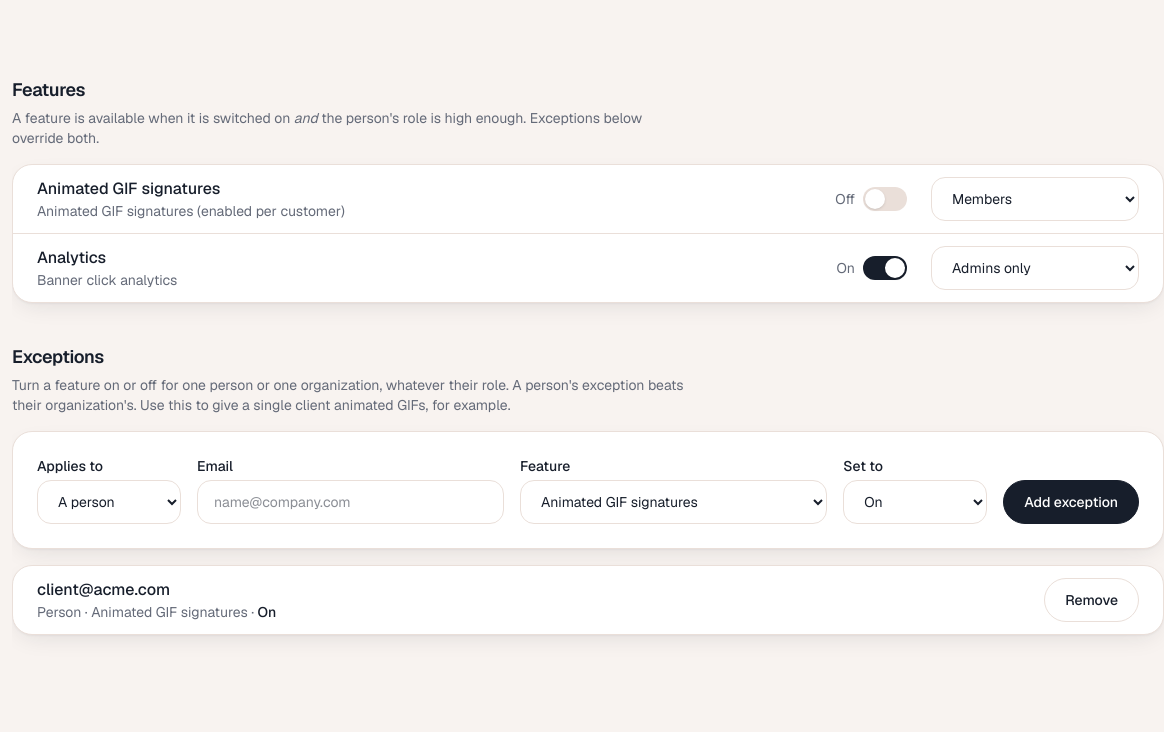
Test case: Features screen › explains a network failure in plain words
Click the switch named "Analytics: on by default": (885, 268) [863,246,907,290]
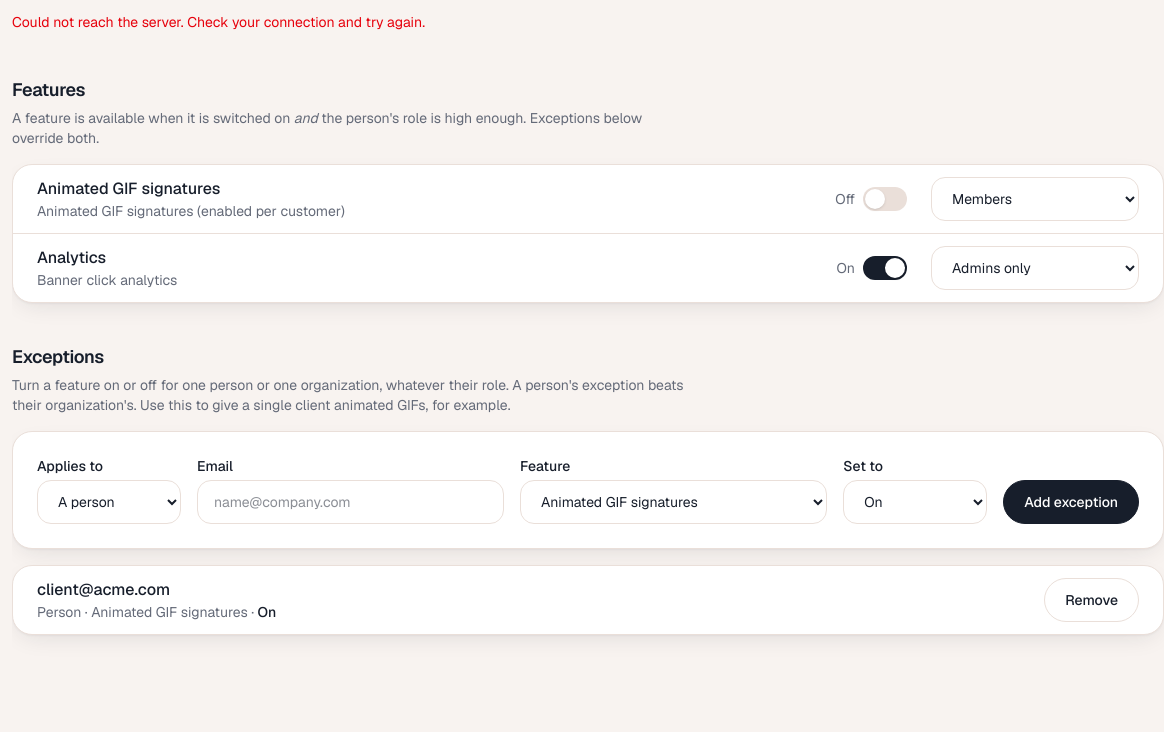
Result: the text "Could not reach the server" is shown at [12,13,425,31]
